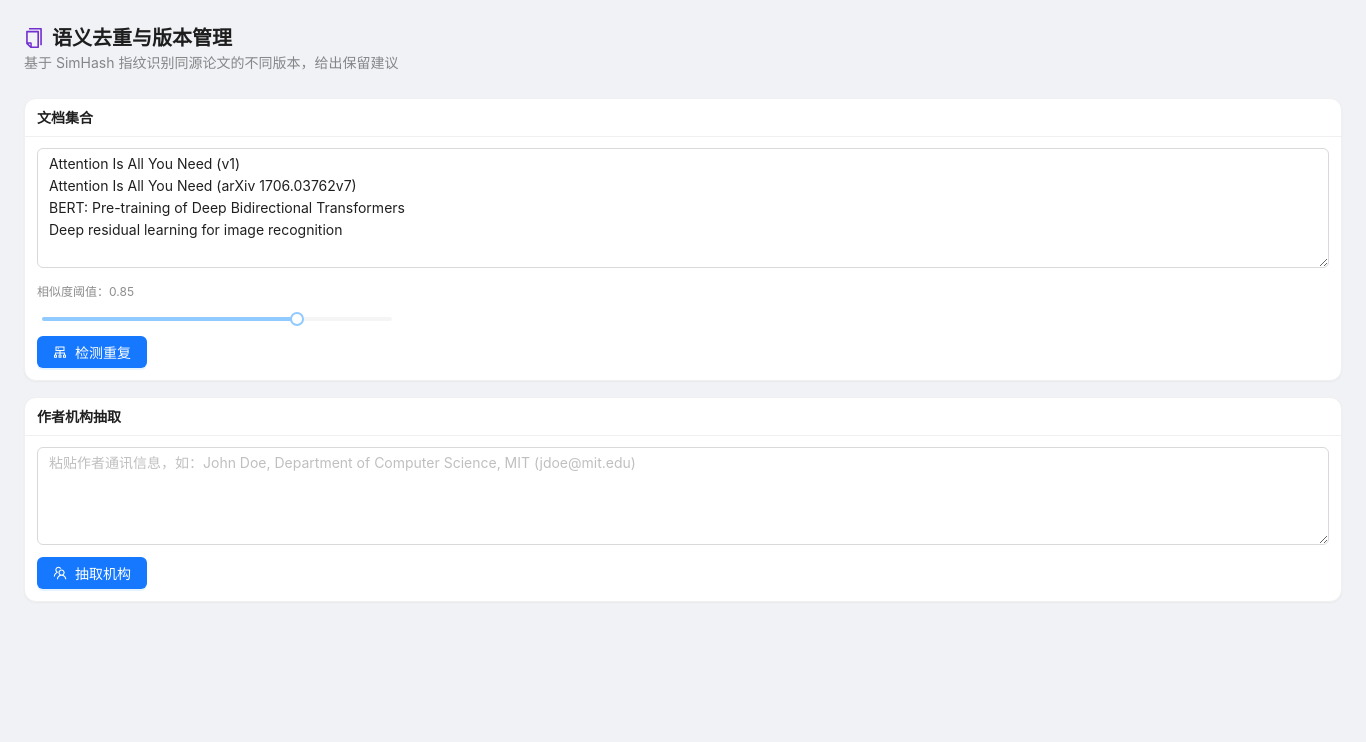
Scenario: DeduplicationPage 版本管理 › 无重复时展示空态
Click the button "检测重复".
click(92, 352)  # box [37, 336, 147, 368]
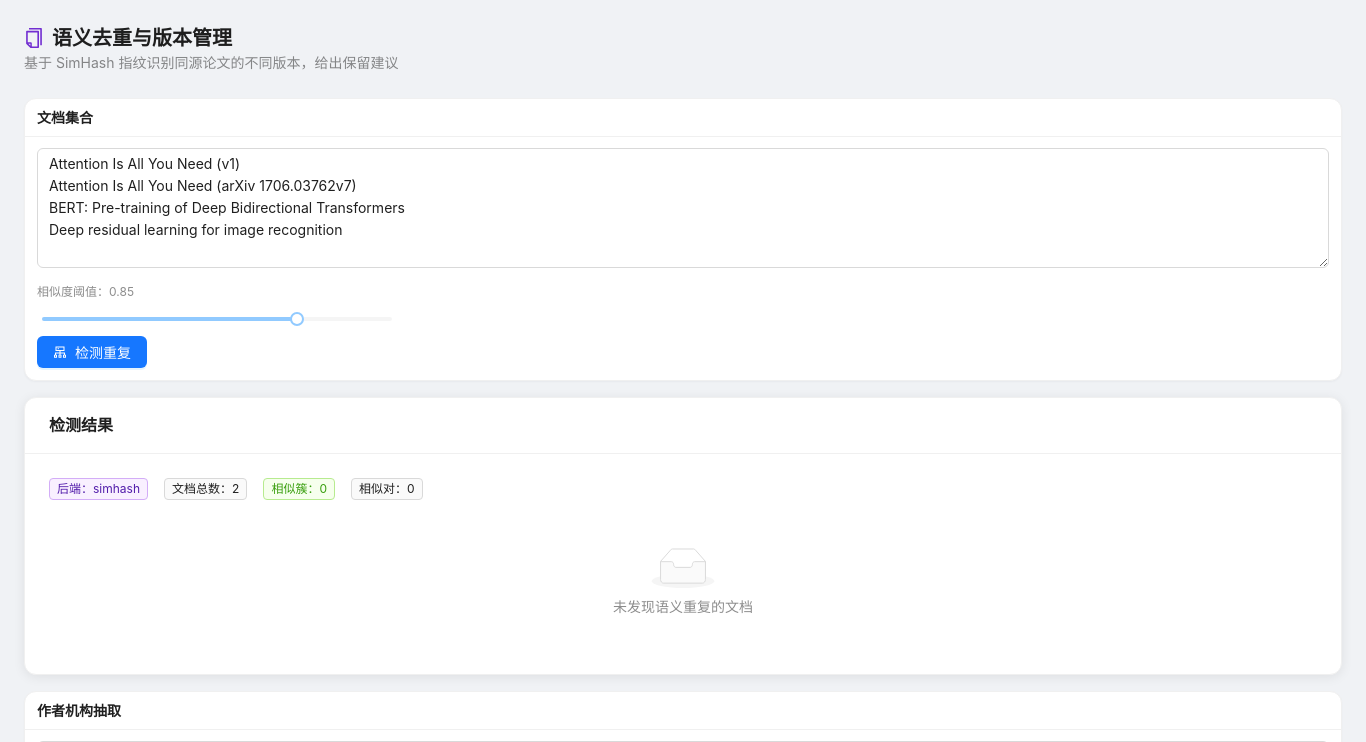
Expected: the text "未发现语义重复的文档" is shown, [613, 598, 753, 615]
